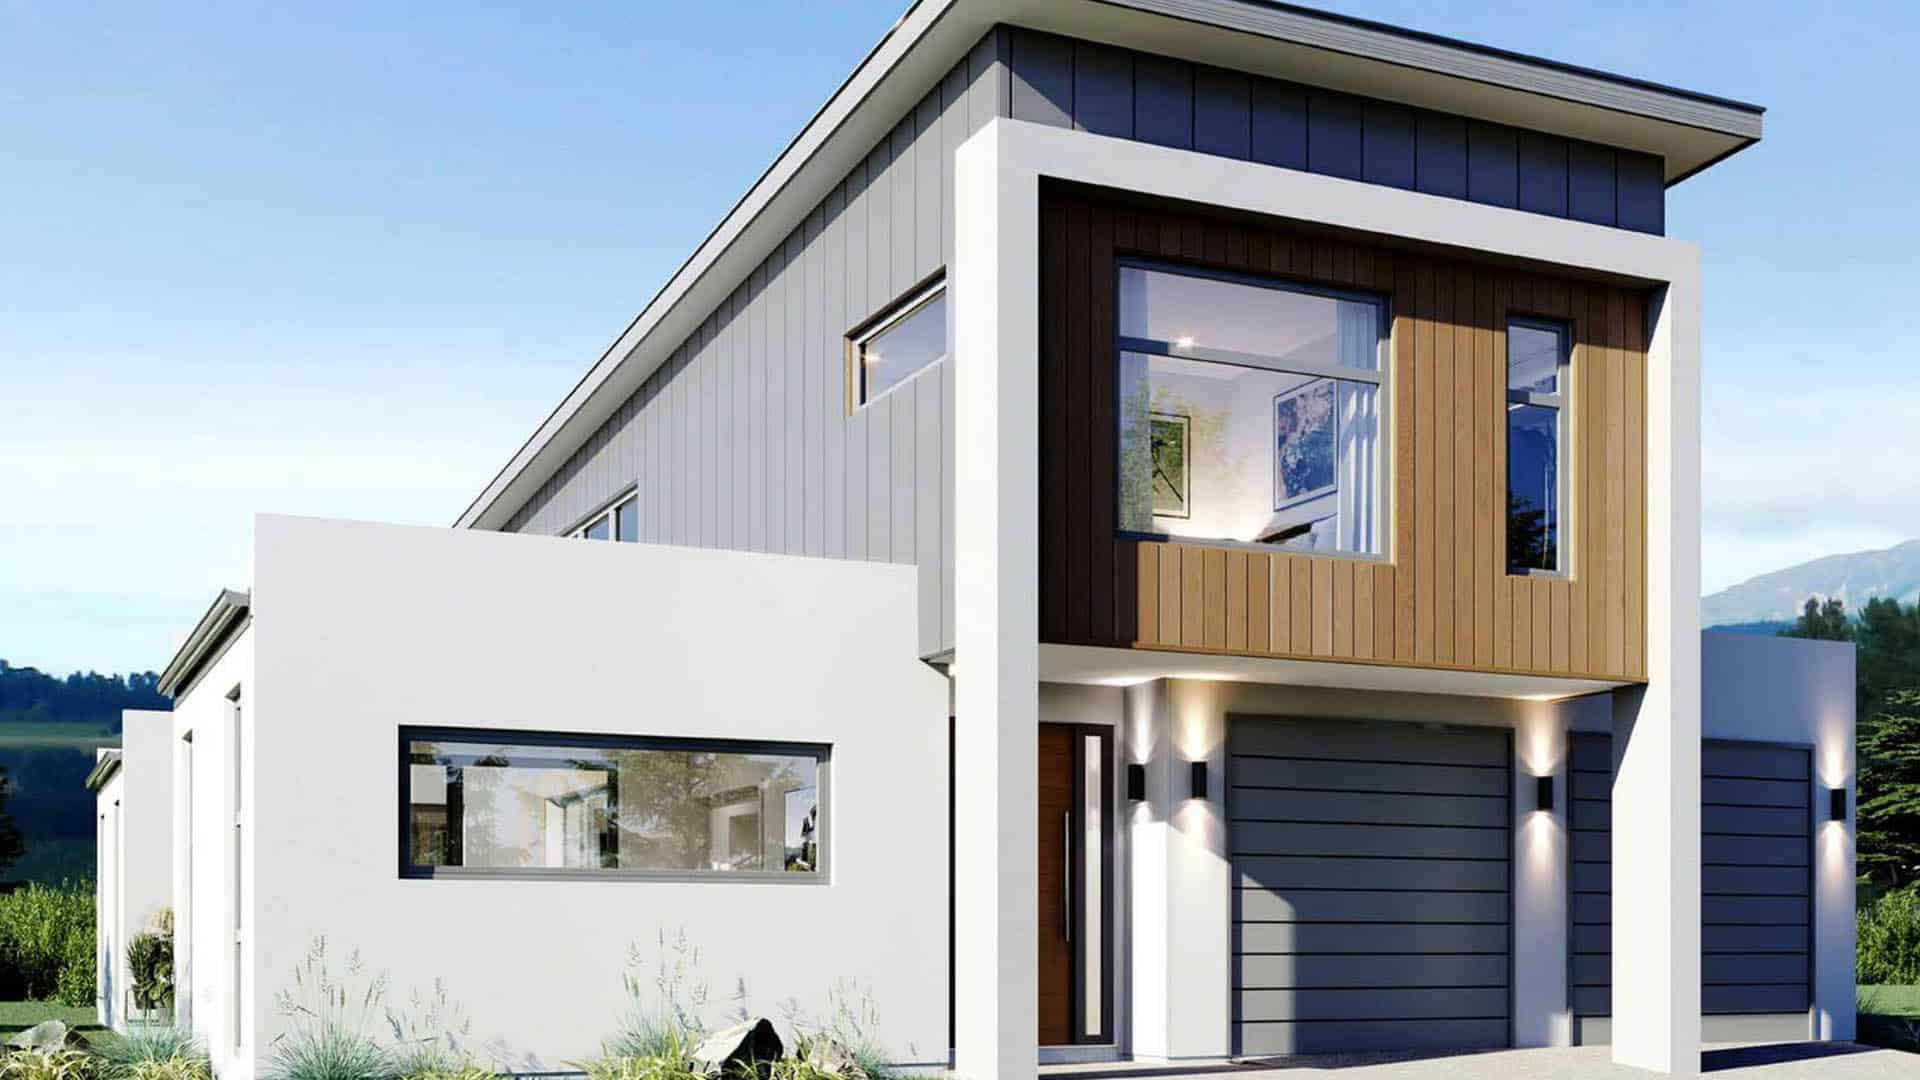Window: (1112, 255, 1399, 564), (396, 717, 841, 895), (1502, 306, 1568, 576), (833, 266, 949, 410)
